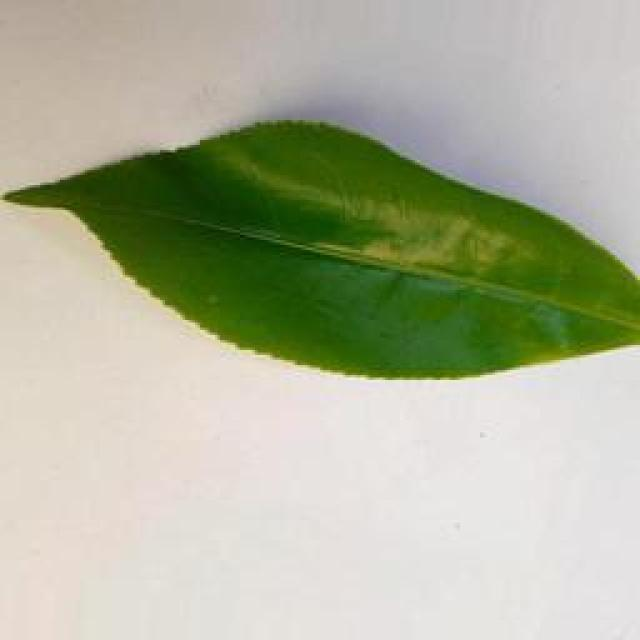Healthy: (0, 117, 640, 386)
